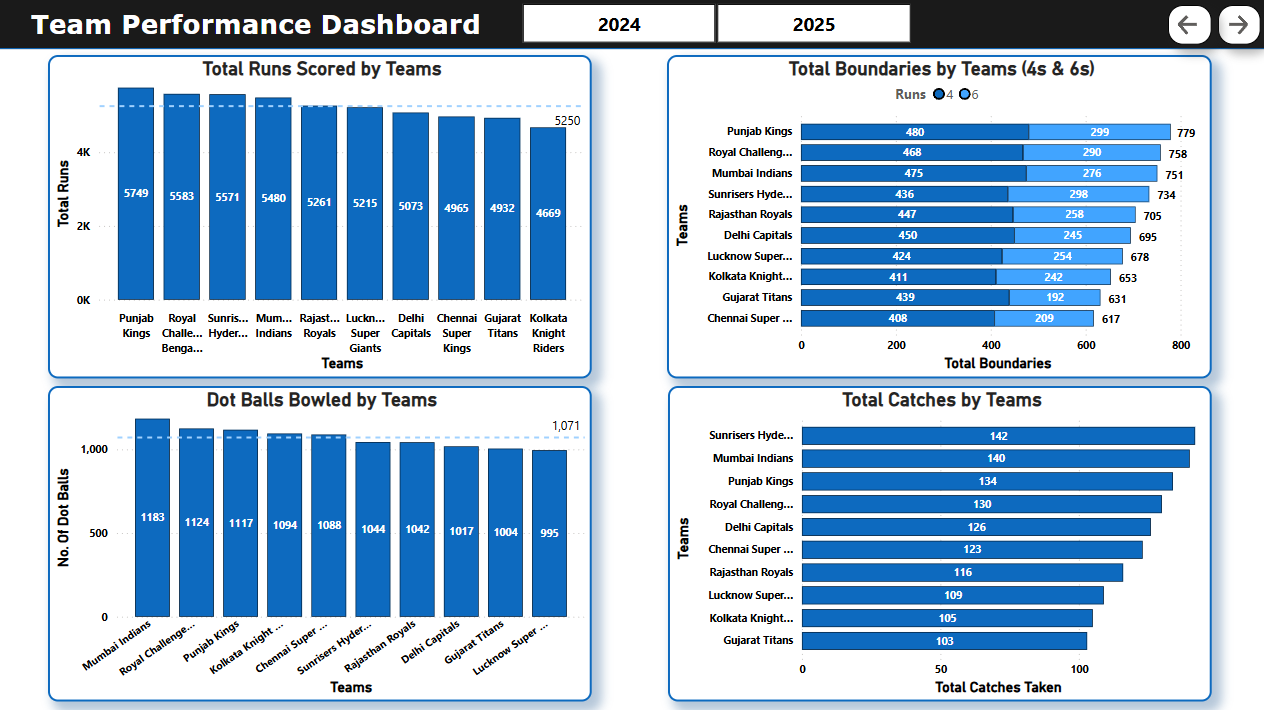

Layout of this report page (visuals, bound fields, positions):
{"tool":"powerbi","page":{"name":"Team Performance","canvas":[1280,720],"ordinal":1},"visuals":[{"type":"shape","box":[0,0,1280.4,53.5],"z":0},{"type":"textbox","box":[27.2,6.3,487,47.2],"z":1000},{"type":"slicer","fields":{"Values":["ipl_summary_24_25.season"]},"box":[501.5,0.9,440.7,52.6],"z":2000},{"type":"clusteredColumnChart","title":"Total Runs Scored by Teams","fields":{"Category":["ipl_filtered_24_25.batting_team"],"Y":["Sum(ipl_filtered_24_25.runs_total)"]},"box":[49.4,59.5,548.3,325.5],"z":3000},{"type":"clusteredColumnChart","title":"Dot Balls Bowled by Teams","fields":{"Y":["CountNonNull(ipl_filtered_24_25.ball)"],"Category":["ipl_filtered_24_25.bowling_team"]},"box":[49.4,393.1,548.3,318.5],"z":4000},{"type":"barChart","title":"Total Boundaries by Teams (4s & 6s)","fields":{"Category":["ipl_filtered_24_25.batting_team"],"Y":["CountNonNull(ipl_filtered_24_25.runs_batter)"],"Series":["ipl_filtered_24_25.runs_batter"]},"box":[673.3,59.5,549.3,325.5],"z":5000},{"type":"barChart","title":"Total Catches by Teams","fields":{"Y":["CountNonNull(ipl_filtered_24_25.wicket_kind)"],"Category":["ipl_filtered_24_25.batting_team"]},"box":[674.3,393.1,548.3,318.5],"z":6000},{"type":"actionButton","box":[1228.6,9.1,43.3,40.3],"z":7000},{"type":"actionButton","box":[1178.2,9.1,44.3,40.3],"z":8000}]}

Visuals, with their boxes in screenshot pixels (x1, y1, x2, y2), scaled from the page's 1280x720 canvas onto the 1264x710 screenshot:
shape: (0, 0, 1263, 53)
textbox: (27, 6, 508, 53)
slicer - ipl_summary_24_25.season: (495, 1, 930, 53)
"Total Runs Scored by Teams" clusteredColumnChart: (49, 59, 590, 380)
"Dot Balls Bowled by Teams" clusteredColumnChart: (49, 388, 590, 702)
"Total Boundaries by Teams (4s & 6s)" barChart: (665, 59, 1207, 380)
"Total Catches by Teams" barChart: (666, 388, 1207, 702)
actionButton: (1213, 9, 1256, 49)
actionButton: (1163, 9, 1207, 49)
